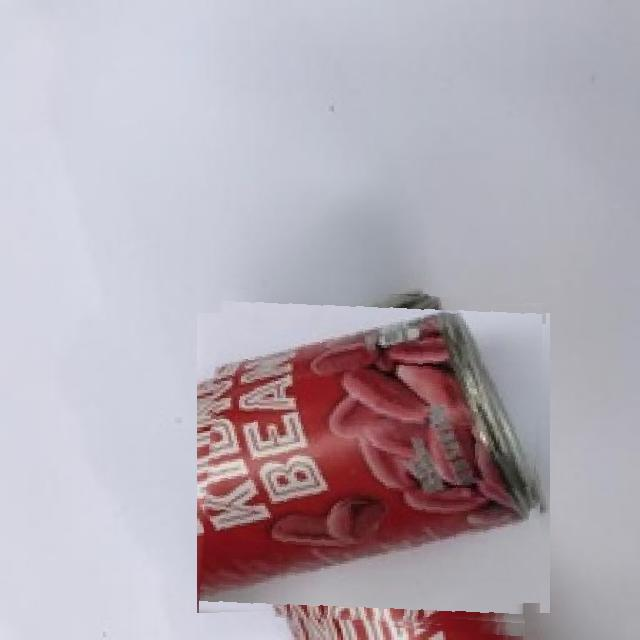recyclable: (204, 294, 542, 632)
